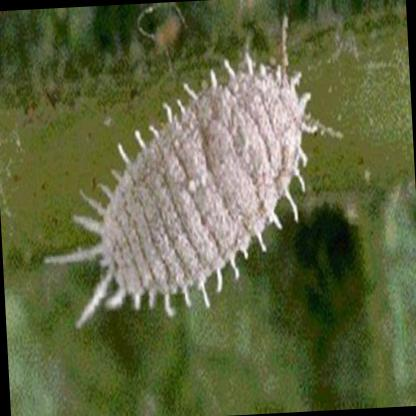mealy bug: (44, 64, 302, 324)
